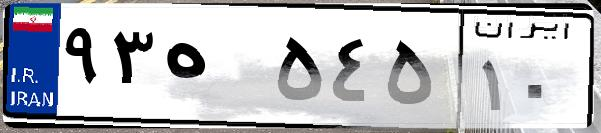0: (525, 38, 570, 115)
1: (475, 38, 525, 113)
3: (110, 28, 158, 98)
4: (330, 28, 385, 110)
5: (270, 28, 330, 110), (385, 28, 445, 110)
9: (57, 26, 110, 100)
ه: (158, 20, 270, 120)
